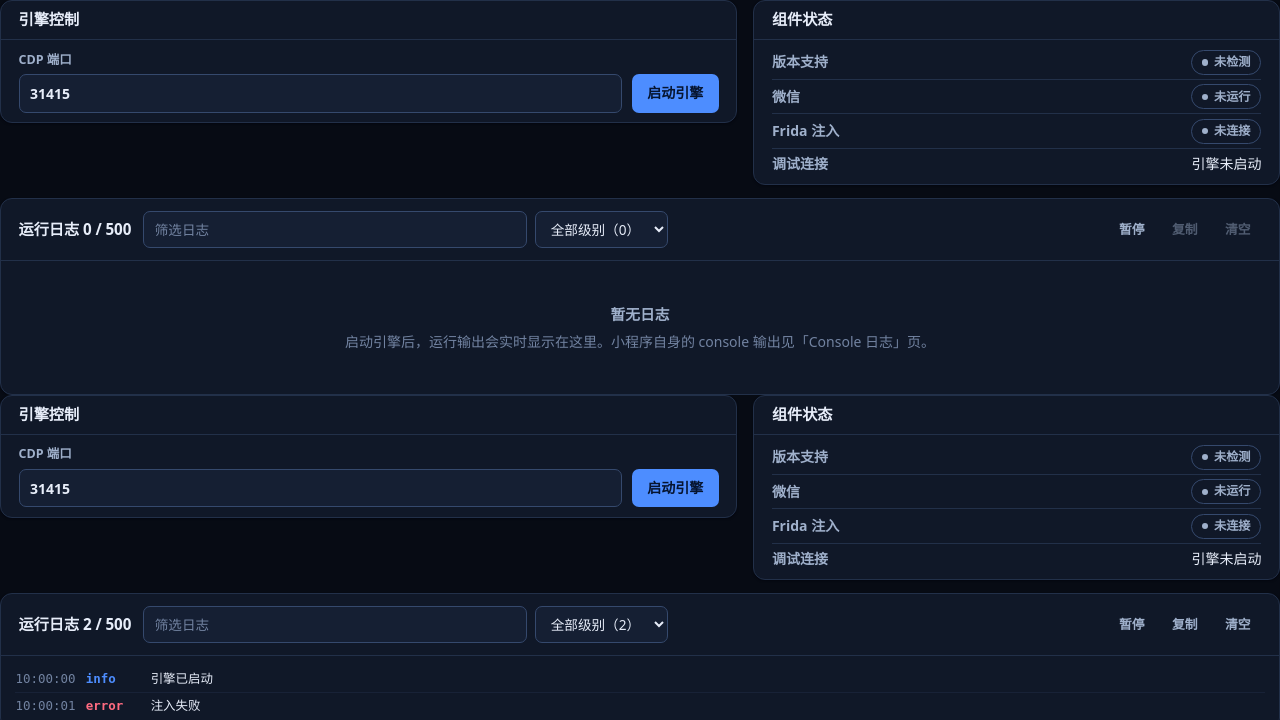
Test: ControlView › filters the log list by keyword and by level
Expected: the number of list items is 2, top-left (15, 667), bottom-right (1265, 693); top-left (15, 698), bottom-right (200, 713)
In the search field named "筛选运行日志": (335, 625) top-left (143, 606), bottom-right (527, 643), type "注入"
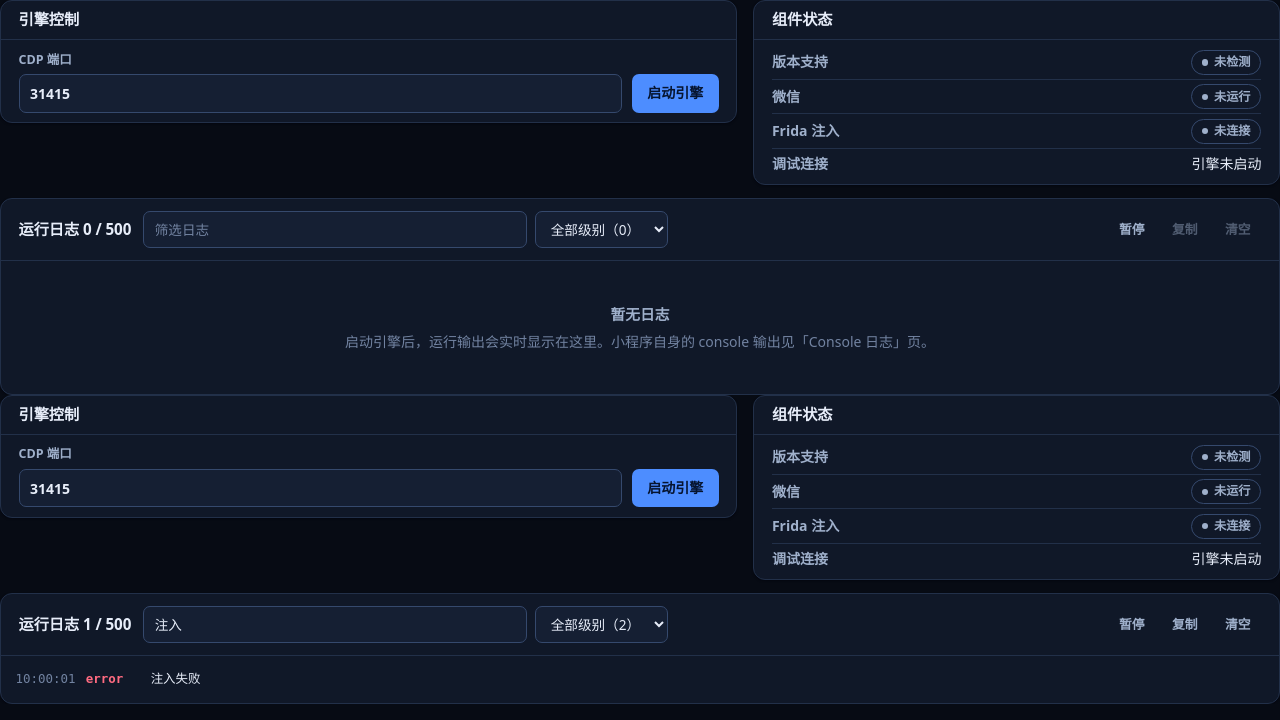
Expected: the list with test id "log-list" shows "注入失败", top-left (151, 671), bottom-right (200, 686)
Result: the number of list items is 1 at top-left (15, 671), bottom-right (200, 686)
Clear the search field named "筛选运行日志": (335, 625) top-left (143, 606), bottom-right (527, 643)
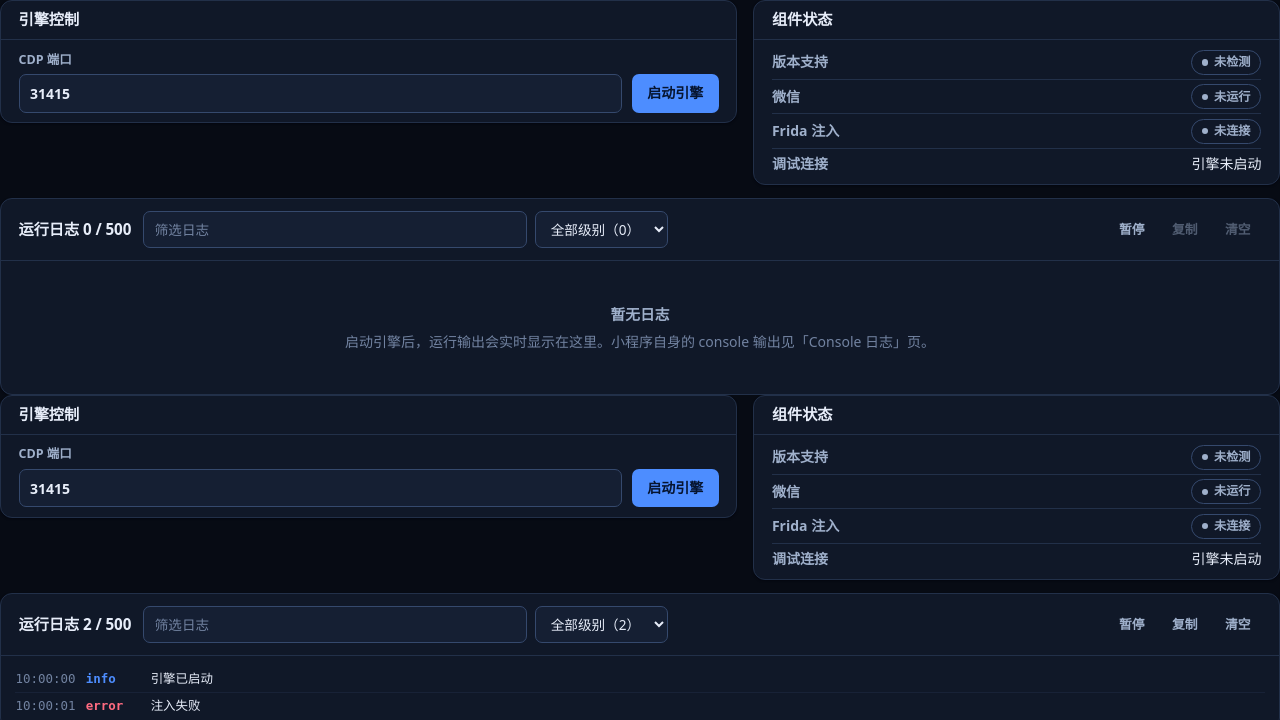
Select "info（1）" in the dropdown named "日志级别" in the row of "2 / 500": (602, 625) top-left (535, 606), bottom-right (668, 643)
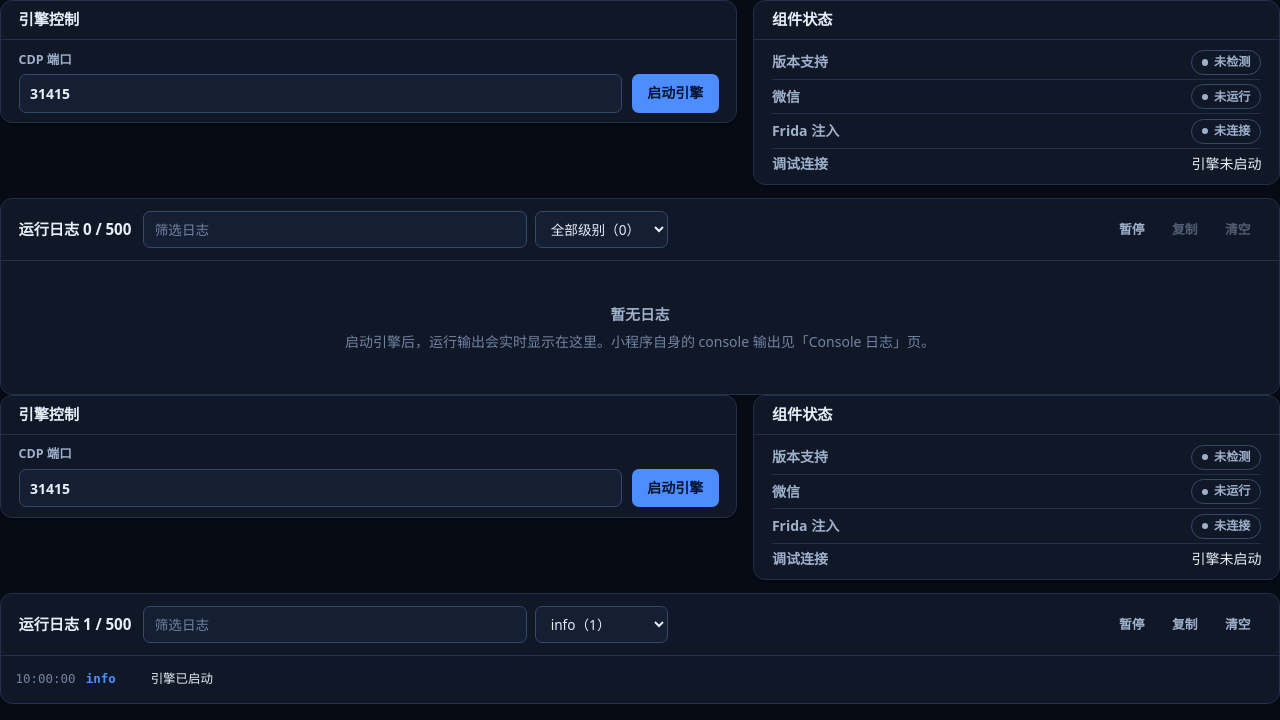
Result: the list with test id "log-list" shows "引擎已启动" at top-left (151, 671), bottom-right (213, 686)
Result: the text with test id "log-list" no longer shows "注入失败"
